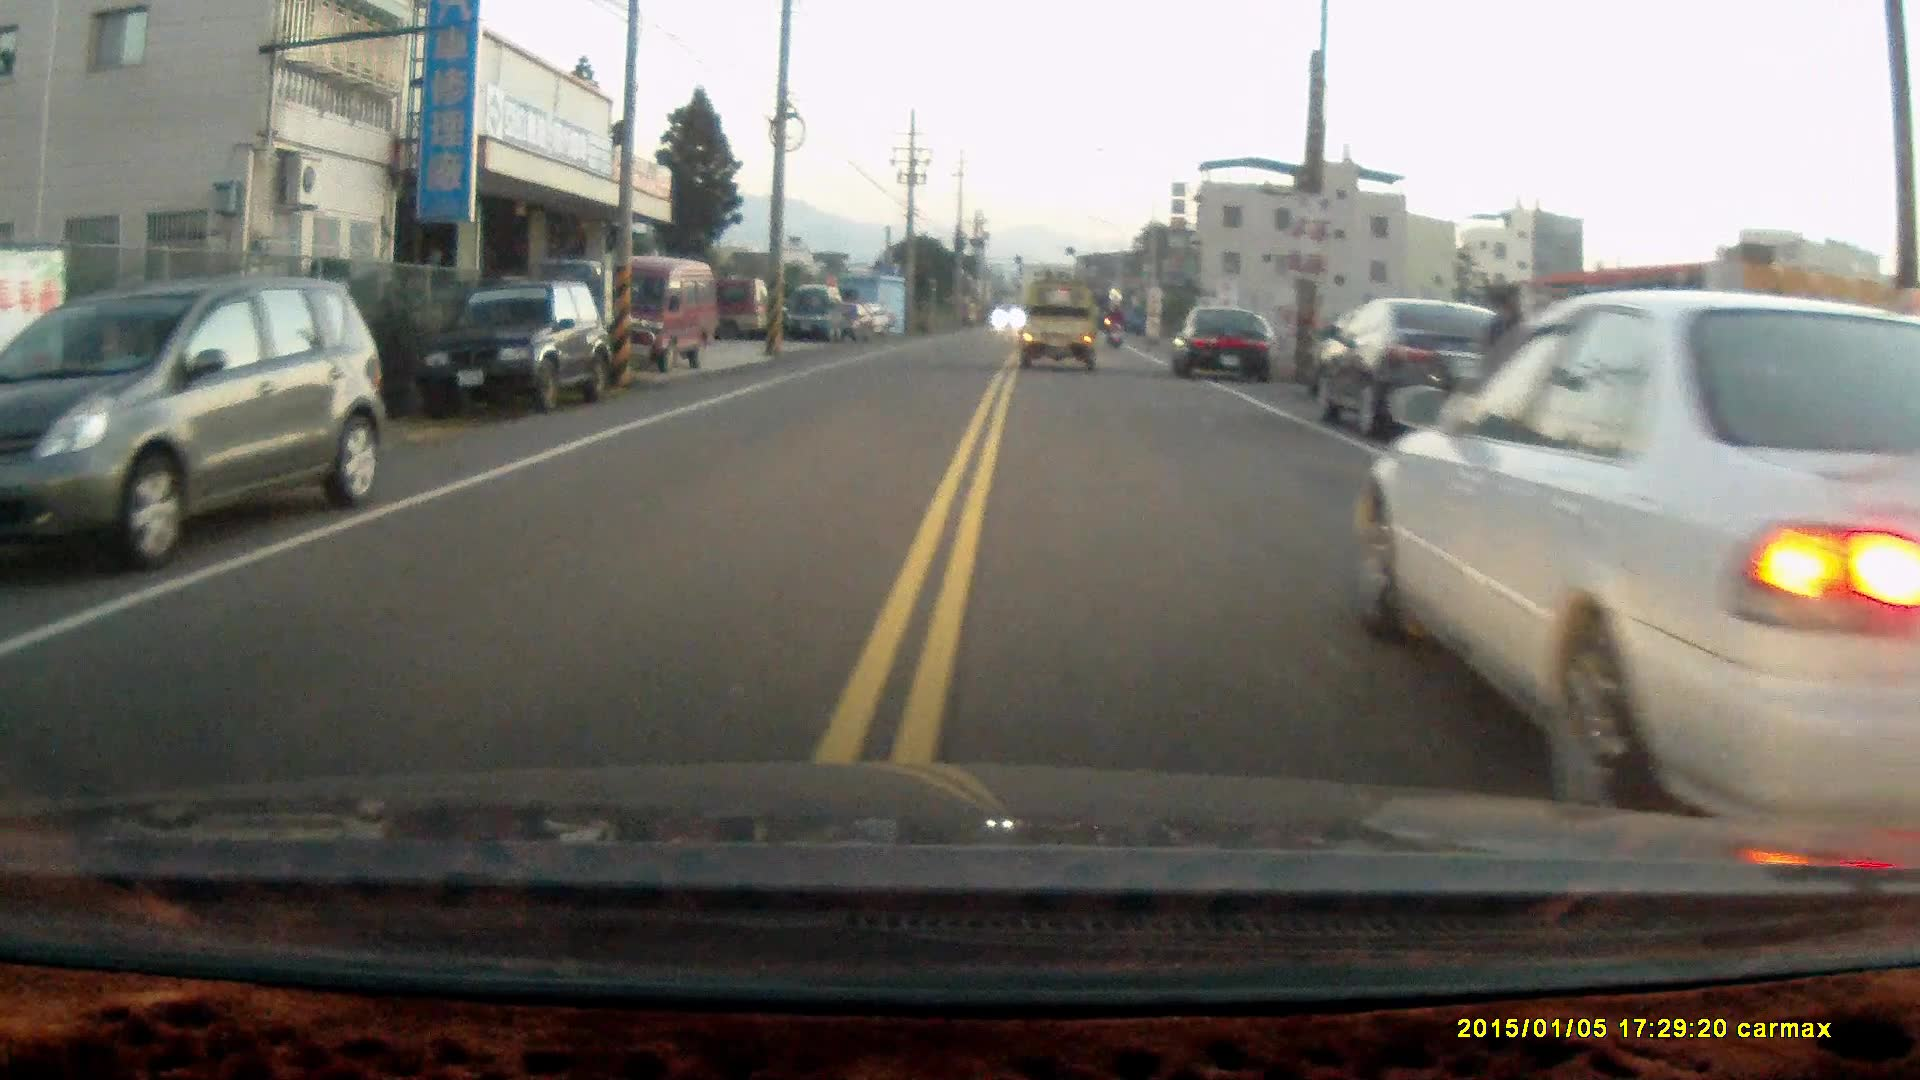rider: (1101, 299, 1127, 347)
vehicle: (1351, 284, 1920, 822), (1, 280, 391, 580), (1316, 293, 1544, 445), (420, 276, 605, 414), (571, 255, 722, 374), (1173, 303, 1280, 379), (1017, 281, 1106, 365), (788, 284, 851, 341)
